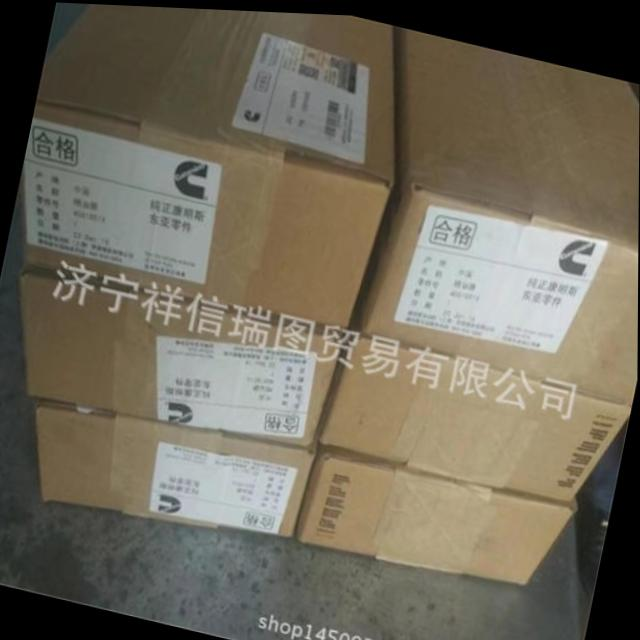box: (315, 23, 640, 498), (22, 3, 393, 332), (19, 270, 347, 443), (37, 397, 318, 536), (296, 445, 579, 582)
